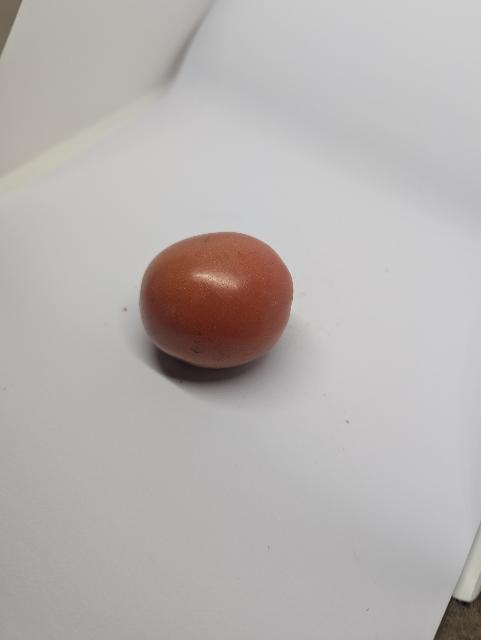red: (136, 227, 300, 374)
